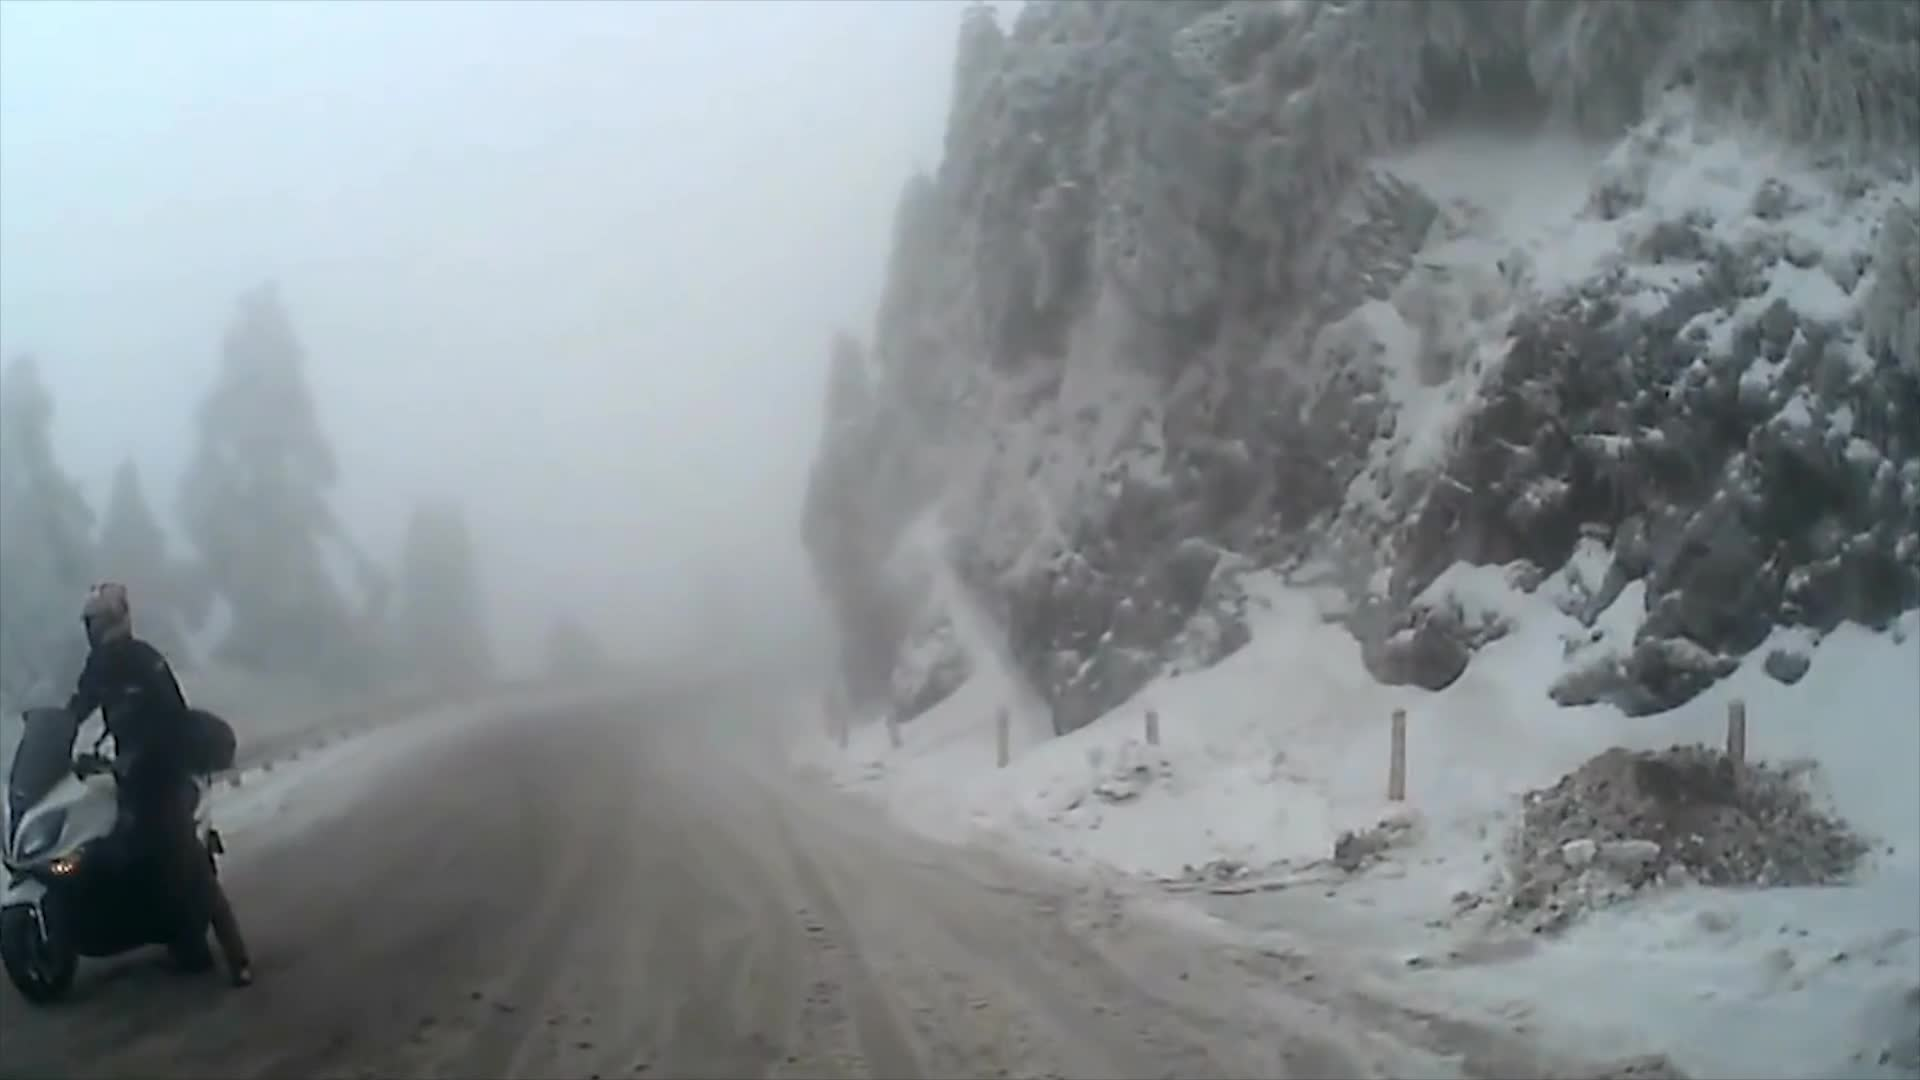pedestrian: (37, 576, 249, 982)
